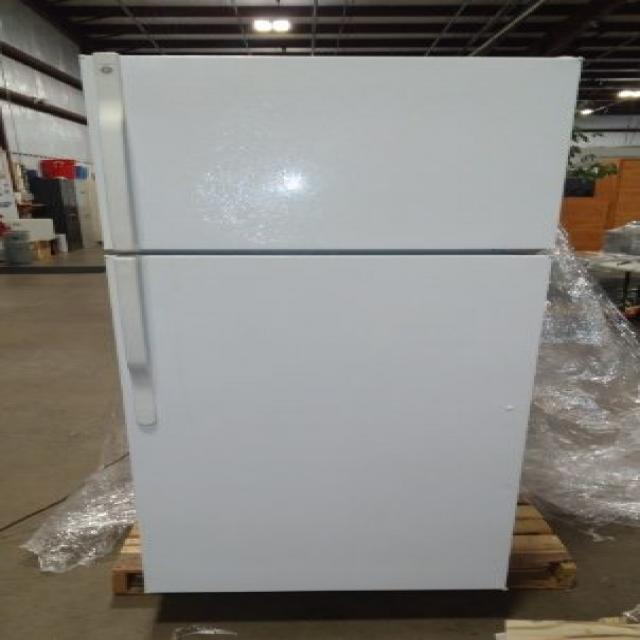refrigerator: (77, 53, 587, 594)
